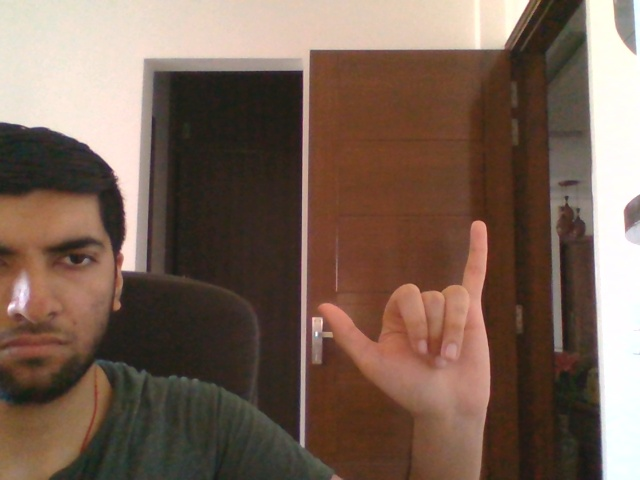LetterY: (315, 217, 495, 422)
